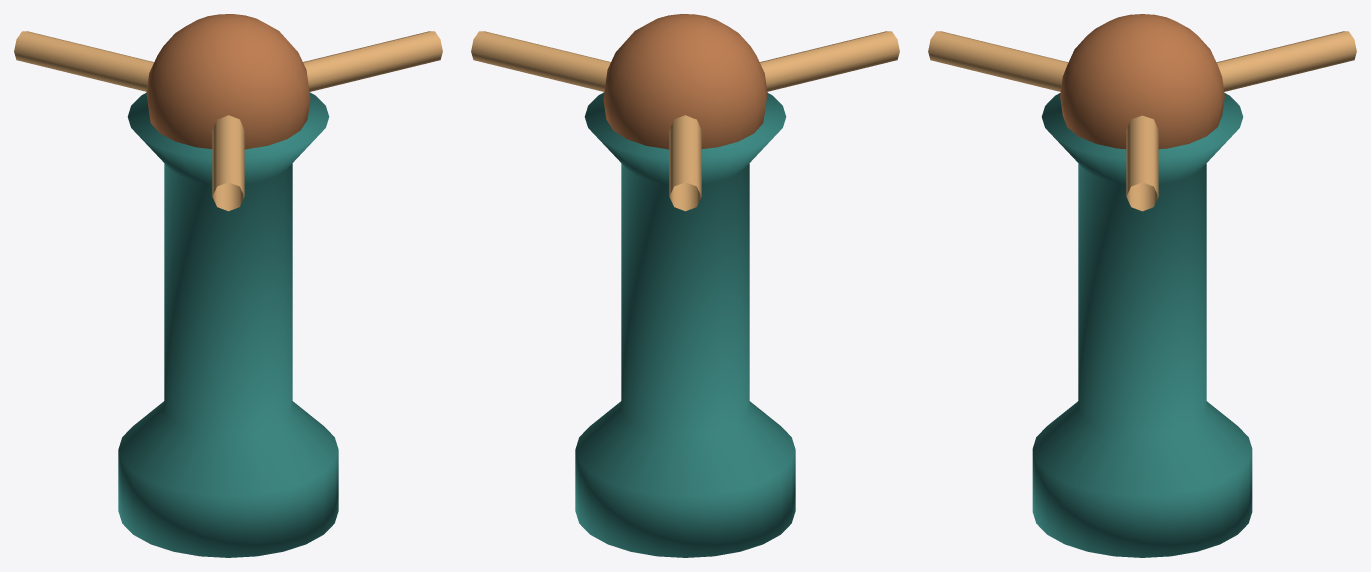
The picture shows the model from 3 angles, left to right: view 1: azimuth 30°, elevation 25°; view 2: azimuth 150°, elevation 25°; view 3: azimuth 270°, elevation 25°; orthographic projection.
Parts seen in each view (by area): view 1: PR008_pillar, PR008_hub, PR008_arm, PR008_arm.001, PR008_arm.002; view 2: PR008_pillar, PR008_hub, PR008_arm, PR008_arm.002, PR008_arm.001; view 3: PR008_pillar, PR008_hub, PR008_arm.001, PR008_arm.002, PR008_arm.
Boxes of the visible parts, left/top/right/bottom form: PR008_pillar: left=118, top=92, right=338, bottom=557; PR008_hub: left=146, top=14, right=310, bottom=149; PR008_arm: left=303, top=31, right=442, bottom=91; PR008_arm.001: left=14, top=31, right=154, bottom=91; PR008_arm.002: left=212, top=115, right=244, bottom=211; PR008_pillar: left=575, top=92, right=795, bottom=557; PR008_hub: left=603, top=14, right=767, bottom=149; PR008_arm: left=471, top=31, right=610, bottom=91; PR008_arm.002: left=759, top=31, right=899, bottom=91; PR008_arm.001: left=669, top=115, right=701, bottom=211; PR008_pillar: left=1032, top=93, right=1252, bottom=557; PR008_hub: left=1060, top=14, right=1224, bottom=149; PR008_arm.001: left=1216, top=31, right=1356, bottom=91; PR008_arm.002: left=928, top=31, right=1068, bottom=91; PR008_arm: left=1126, top=115, right=1158, bottom=211.
Size of the model in its own units: 0.8103 by 1.18 by 0.9357.
